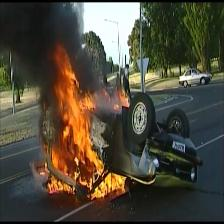fire: (56, 54, 83, 191), (87, 138, 123, 195)
smoke: (3, 2, 83, 55)
